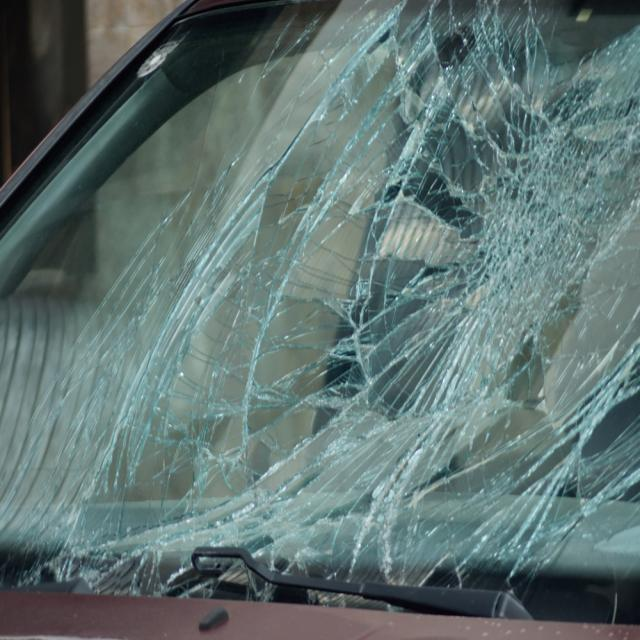Fissure: (176, 26, 234, 204), (254, 0, 314, 171)
